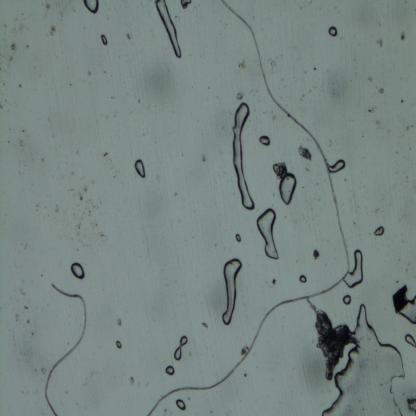Air bubble: (326, 303, 406, 415), (232, 102, 256, 210), (154, 0, 182, 58), (221, 258, 243, 327), (256, 206, 279, 260), (345, 249, 364, 289), (279, 172, 298, 208), (399, 296, 416, 325), (173, 335, 188, 362), (70, 261, 86, 280), (134, 157, 146, 180), (84, 0, 101, 16), (328, 160, 346, 172), (258, 133, 272, 148), (405, 334, 416, 348), (374, 226, 386, 238), (175, 399, 187, 410), (342, 293, 352, 305), (165, 365, 175, 376), (328, 25, 338, 36), (299, 274, 307, 284), (102, 34, 108, 46), (236, 233, 242, 244), (116, 340, 122, 349)
Background material: (62, 166, 102, 237), (314, 308, 352, 380), (392, 284, 409, 314), (233, 49, 252, 75), (92, 144, 115, 160), (273, 160, 289, 180), (296, 143, 312, 161), (405, 396, 416, 415), (179, 1, 193, 12), (239, 344, 249, 355), (200, 320, 209, 330), (115, 316, 122, 328), (377, 86, 386, 94), (378, 36, 384, 48), (314, 248, 320, 260), (50, 26, 56, 37), (401, 29, 406, 41), (271, 278, 277, 286), (12, 46, 17, 52)
Microfibre: (146, 1, 351, 415), (45, 281, 88, 415)
